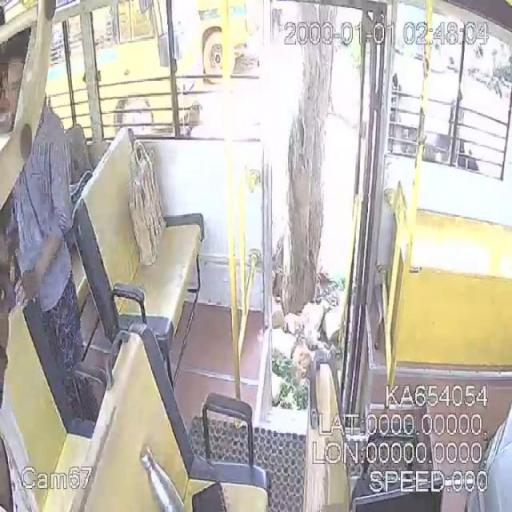persona: (5, 101, 86, 381)
